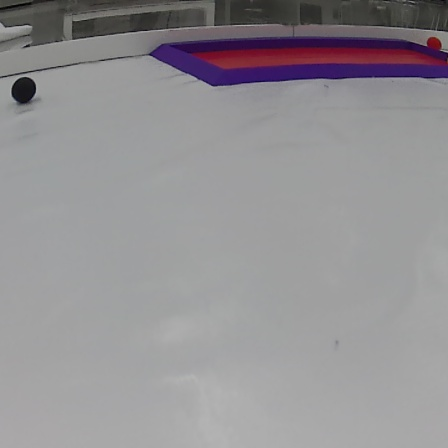black: (10, 74, 37, 104)
red: (427, 36, 444, 51)
red_aim: (143, 39, 448, 89)
